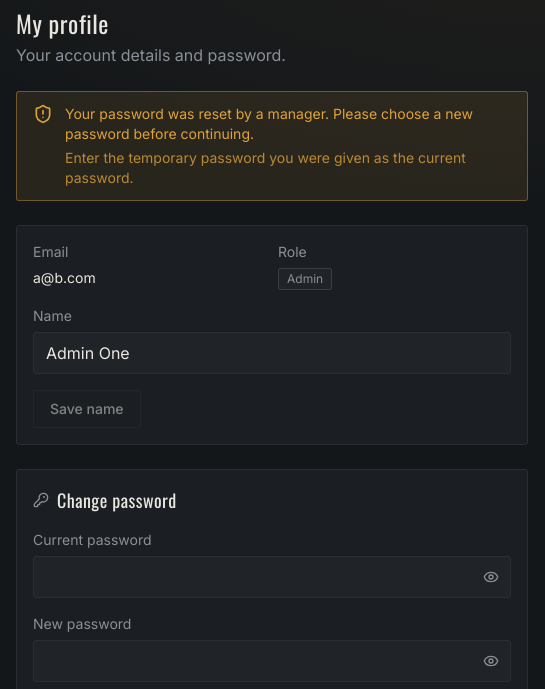
Test: ProfilePage › changes the password and clears the must-change flag
Expected: the text "reset by a manager" is shown, [65,105,473,142]
Type "Temp1234abcd" into the password field labelled "Current password" at (272, 577), box [33,556,511,598]
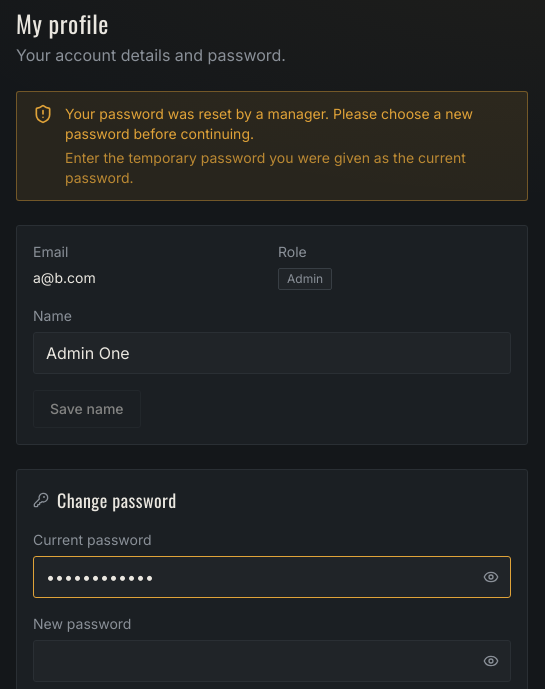
Type "NewPass12345" into the password field labelled "New password" at (272, 661), box [33,640,511,682]
(page scrolled)
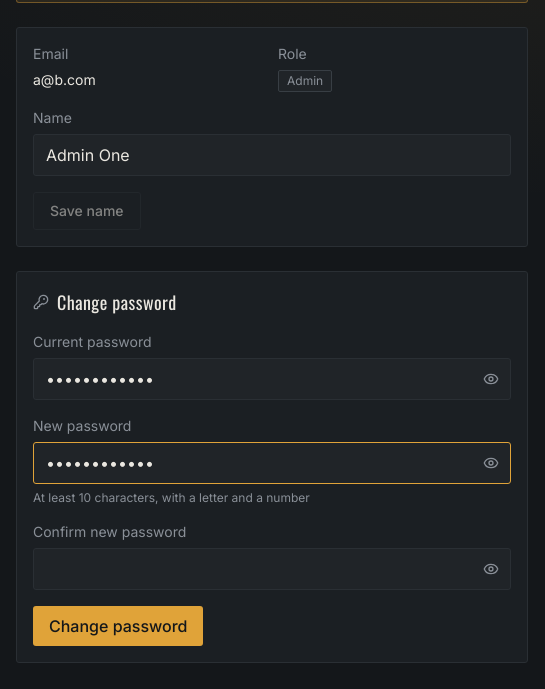
Type "NewPass12345" into the password field labelled "Confirm new password" at (272, 569), box [33,548,511,590]
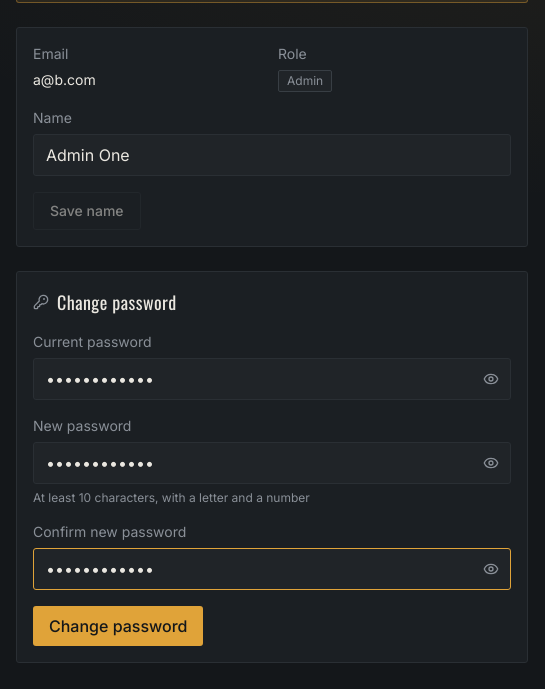
Click the button "Change password" at (118, 626), box [33,606,204,646]
(page scrolled)
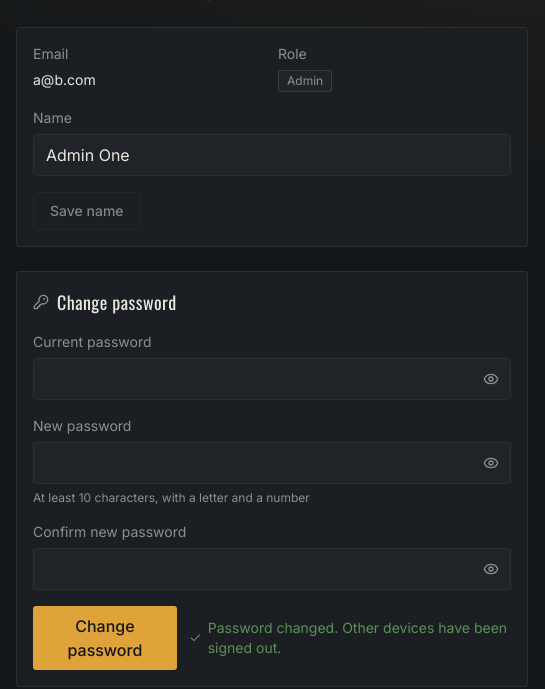
Expected: the text "Password changed. Other devices have been signed out." is shown, [189,618,511,658]
